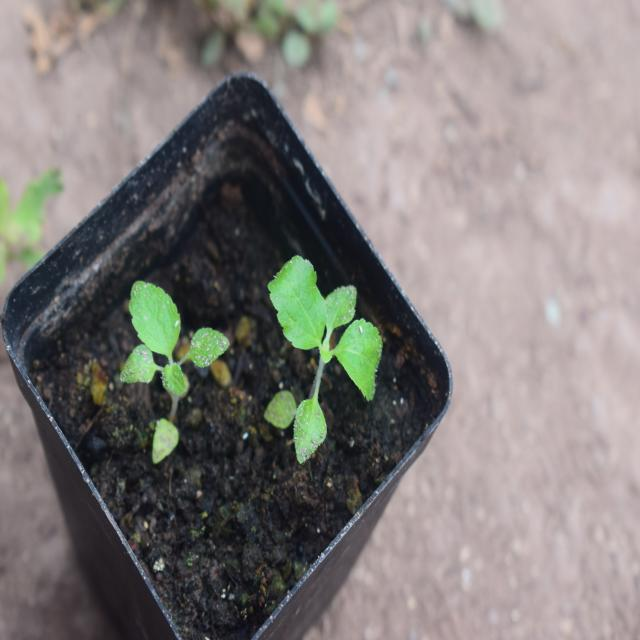billygoat_weed: (267, 256, 398, 456), (99, 272, 224, 449)
